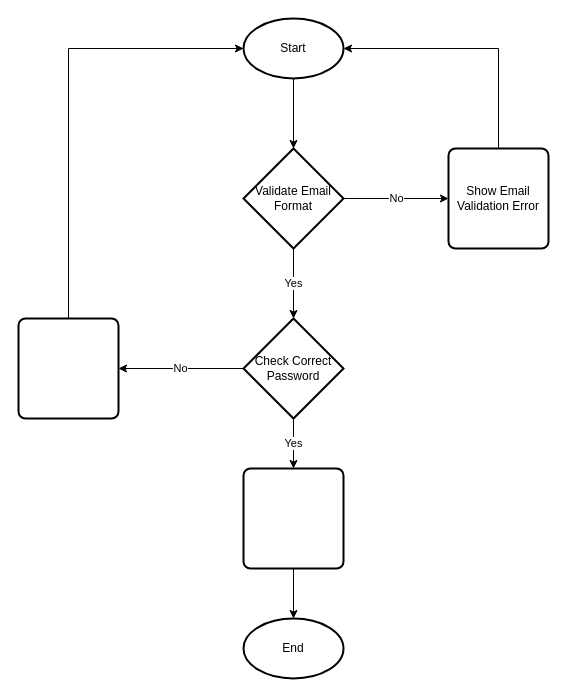
The diagram is 566 pixels wide and 696 high, and some of its shapes have lost their labels. Each missing label, with the box of its shape:
Proceed to next page: (242, 467, 344, 569)
Show Password Authentication Error: (17, 317, 119, 419)
